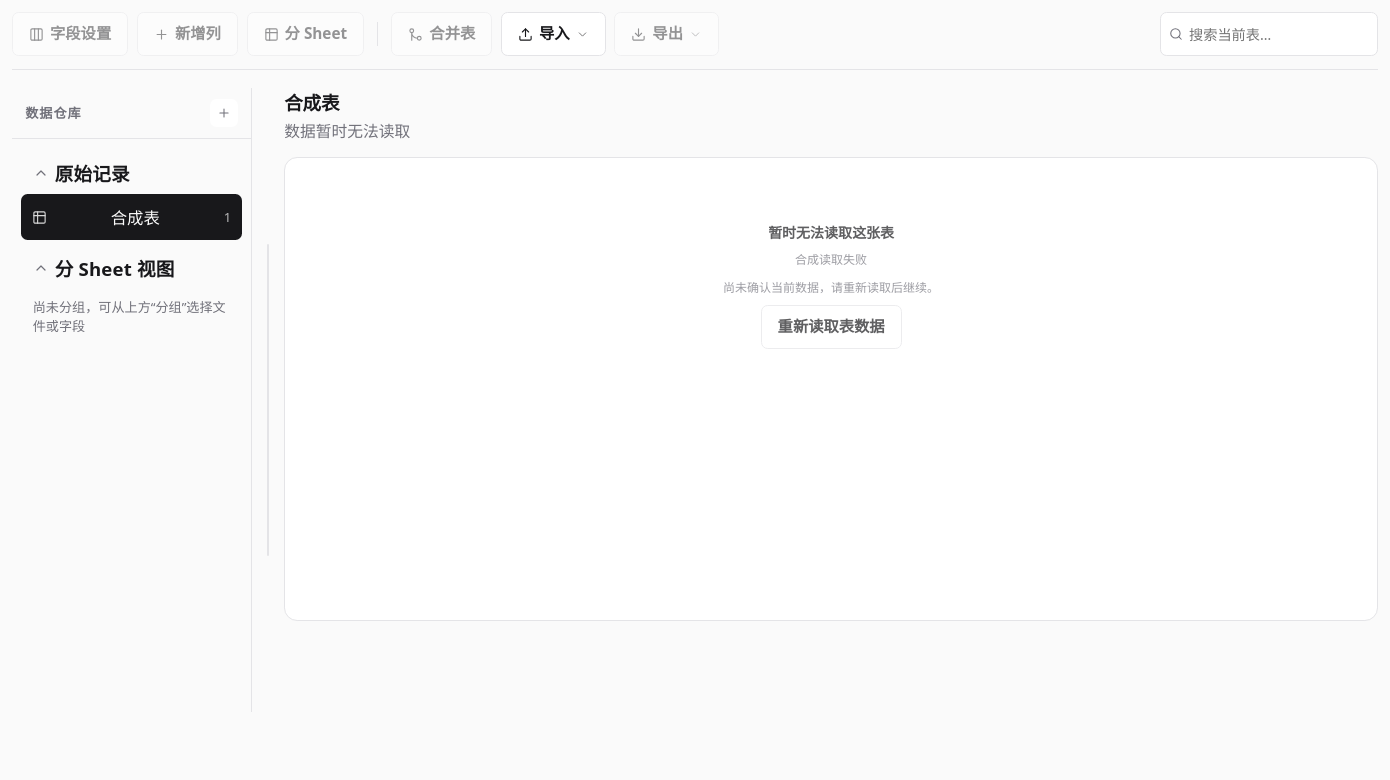
Test case: warehouse read state › distinguishes a failed detail read from empty data and retries in place
Expected: the message shows "合成读取失败", x1=795 y1=251 x2=867 y2=268
Expected: the button "新增一行" is not shown
Step 1. Click the button "重新读取表数据" → (831, 327), box x1=761 y1=305 x2=902 y2=349
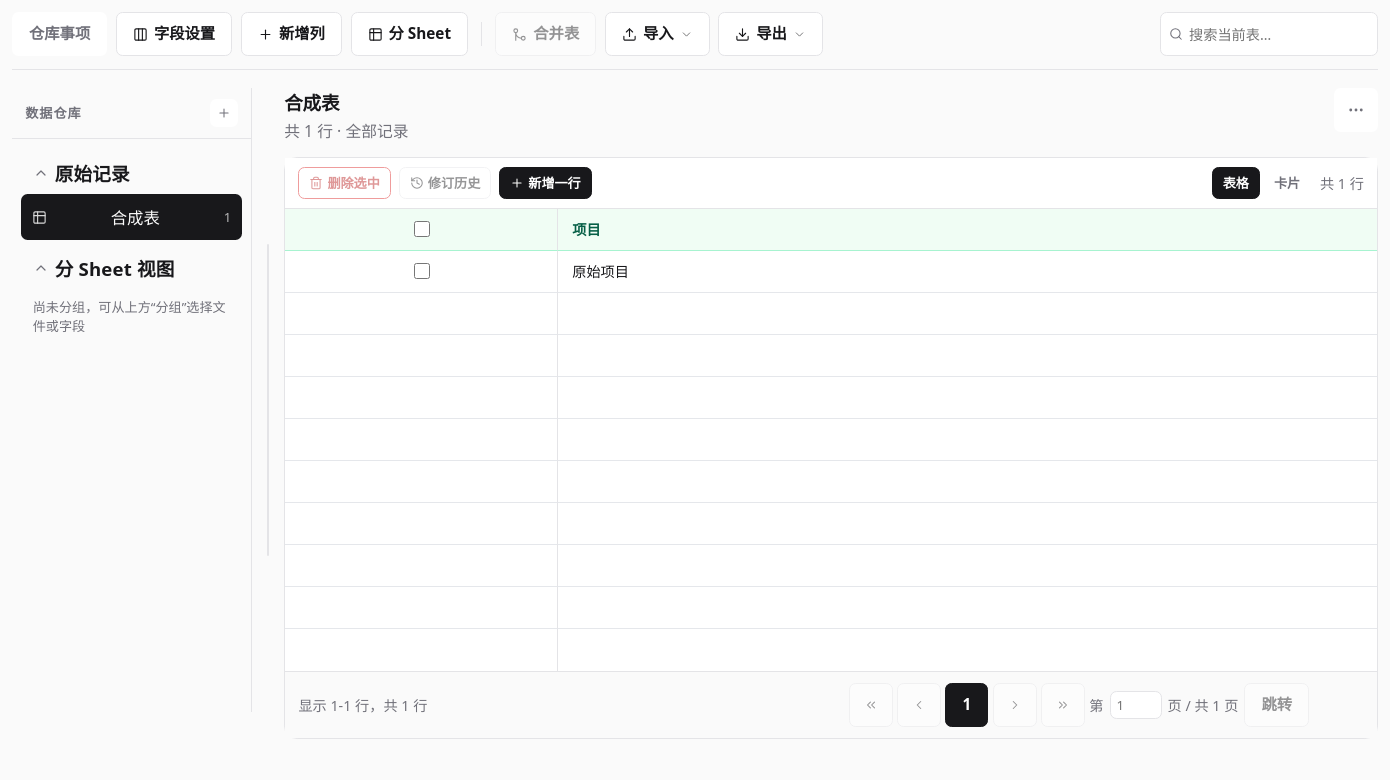
Expected: the cell named "编辑 项目，当前值 原始项目" is shown, x1=558 y1=251 x2=1377 y2=293
Expected: the button "导出" is enabled, x1=718 y1=12 x2=823 y2=56
Expected: the message is gone
